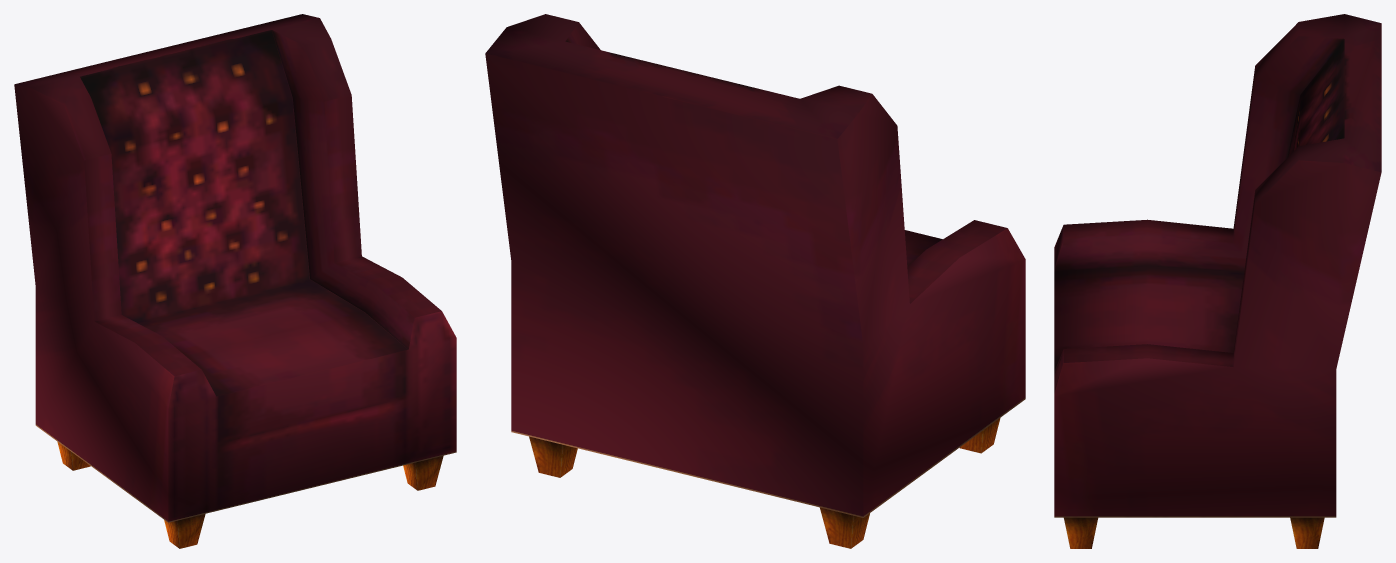
File: chr_lrg_hi_red.fbx
The picture shows the model from 3 angles, left to right: view 1: azimuth 30°, elevation 25°; view 2: azimuth 150°, elevation 25°; view 3: azimuth 270°, elevation 25°; orthographic projection. The views are drawn at different scales.
Visible parts, largest first — view 1: mesh_0; view 2: mesh_0; view 3: mesh_0.
Part boxes in pixels (box(x1,y1,x2,y2)): mesh_0: box(14, 14, 456, 548); mesh_0: box(485, 14, 1025, 548); mesh_0: box(1054, 14, 1381, 548).
Bounding box in the file's own units: 96.18 × 118 × 89.11.
1 material, 1 textured.
